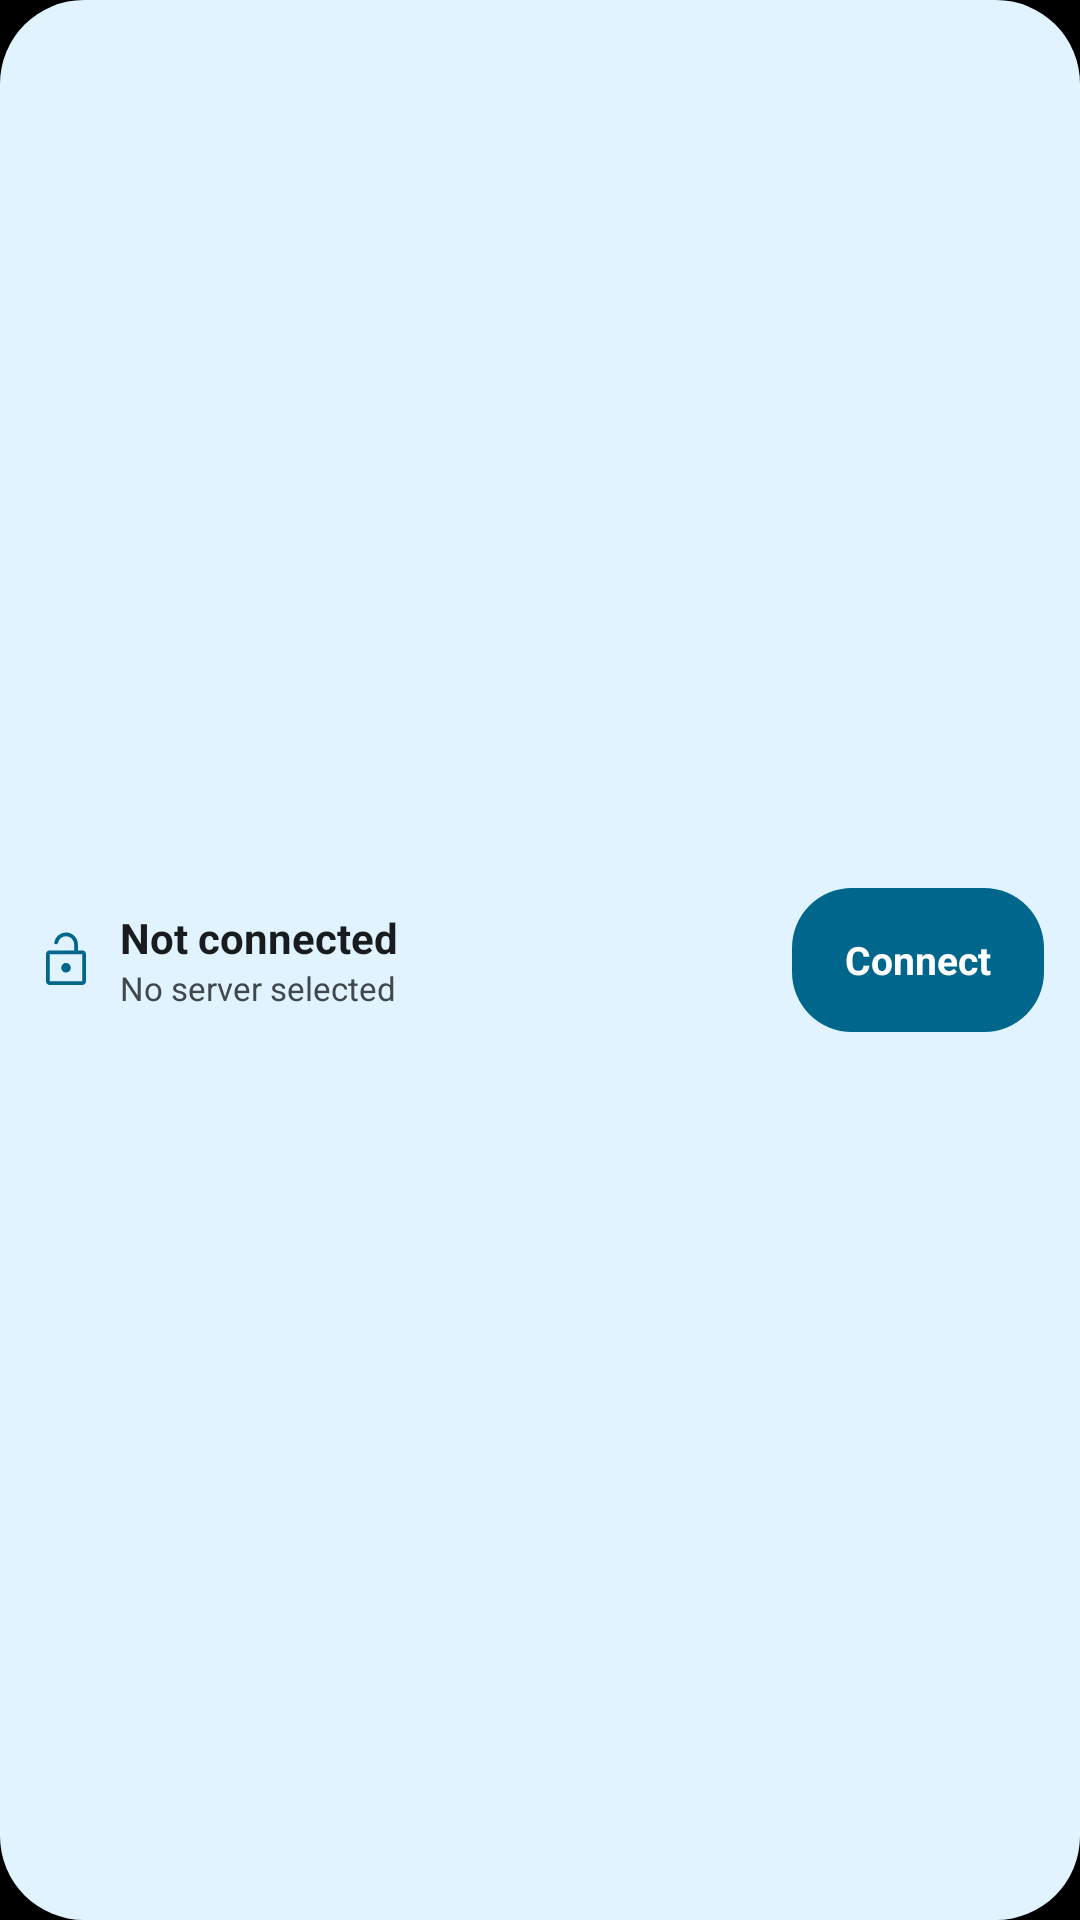

Screen size 1080*1920. Icon name, then its box in pixels as (x1, y1, x2, y2):
lock open: (46, 932, 86, 985)
